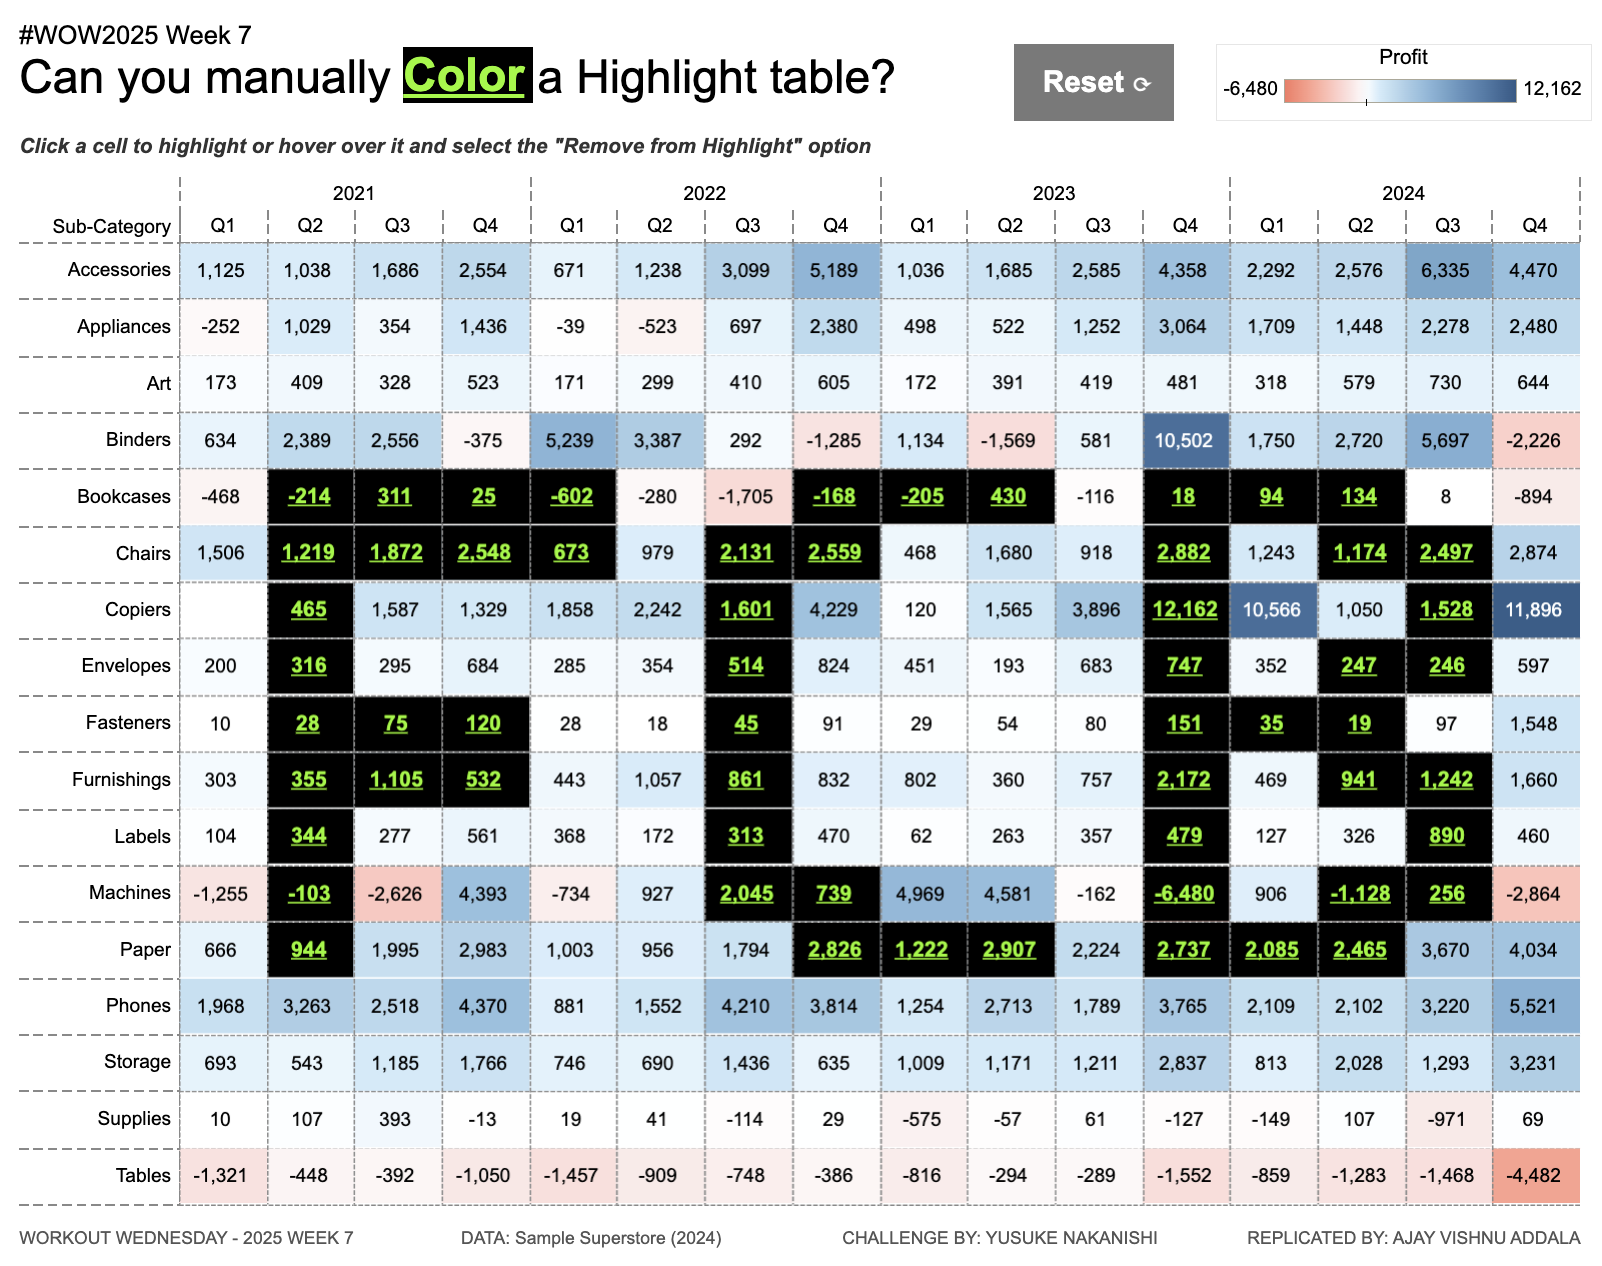

The dashboard page shown, as its layout file describes it:
{"tool":"tableau","page":{"name":"WOW2025 W7","canvas":[1000,800],"ordinal":0},"visuals":[{"type":"text","box":[8,8,984,100]},{"type":"worksheet","title":"Reset","mark":"GanttBar","rows":["Calculation_4817022061907169293"],"box":[634,30,100,48]},{"type":"legend","title":"HeatMap","param":"[federated.04bbjgd19d7diu1ez7fn51fbc53p].[sum:Profit:qk]","box":[760,30,235,48]},{"type":"text","box":[252,32,81,33]},{"type":"worksheet","title":"HeatMap","mark":"Bar","rows":["Sub-Category"],"cols":["Order Date","Order Date","Calculation_4817022061895340039","Calculation_4817022061895340039"],"box":[8,109,984,651]},{"type":"text","box":[8,760,231,32]},{"type":"text","box":[239,760,261,32]},{"type":"text","box":[500,760,250,32]},{"type":"text","box":[750,760,242,32]}]}

Visuals, with their boxes in screenshot pixels (x1, y1, x2, y2), scaled from the page's 1000x800 canvas onto the 1602x1266 screenshot:
text: <bbox>13, 13, 1589, 171</bbox>
"Reset" worksheet (GanttBar marks): <bbox>1016, 47, 1176, 123</bbox>
"HeatMap" legend: <bbox>1218, 47, 1594, 123</bbox>
text: <bbox>404, 51, 533, 103</bbox>
"HeatMap" worksheet (Bar marks): <bbox>13, 172, 1589, 1203</bbox>
text: <bbox>13, 1203, 383, 1253</bbox>
text: <bbox>383, 1203, 801, 1253</bbox>
text: <bbox>801, 1203, 1202, 1253</bbox>
text: <bbox>1202, 1203, 1589, 1253</bbox>
